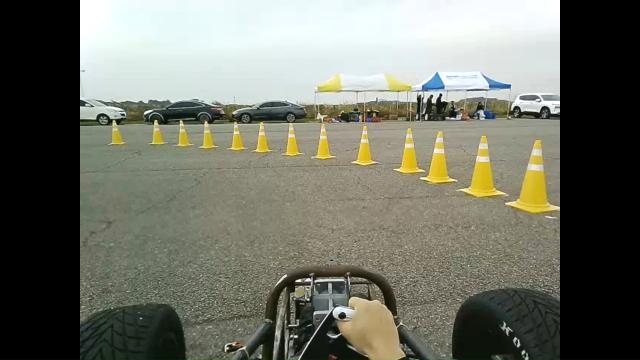yellow cone: (505, 139, 559, 213), (456, 134, 508, 198), (420, 130, 458, 184), (393, 127, 425, 174), (350, 125, 379, 165), (311, 123, 336, 160), (280, 123, 302, 156), (252, 121, 272, 153), (226, 121, 248, 150), (198, 120, 219, 149), (174, 120, 194, 146), (148, 119, 168, 145), (108, 119, 126, 145)
